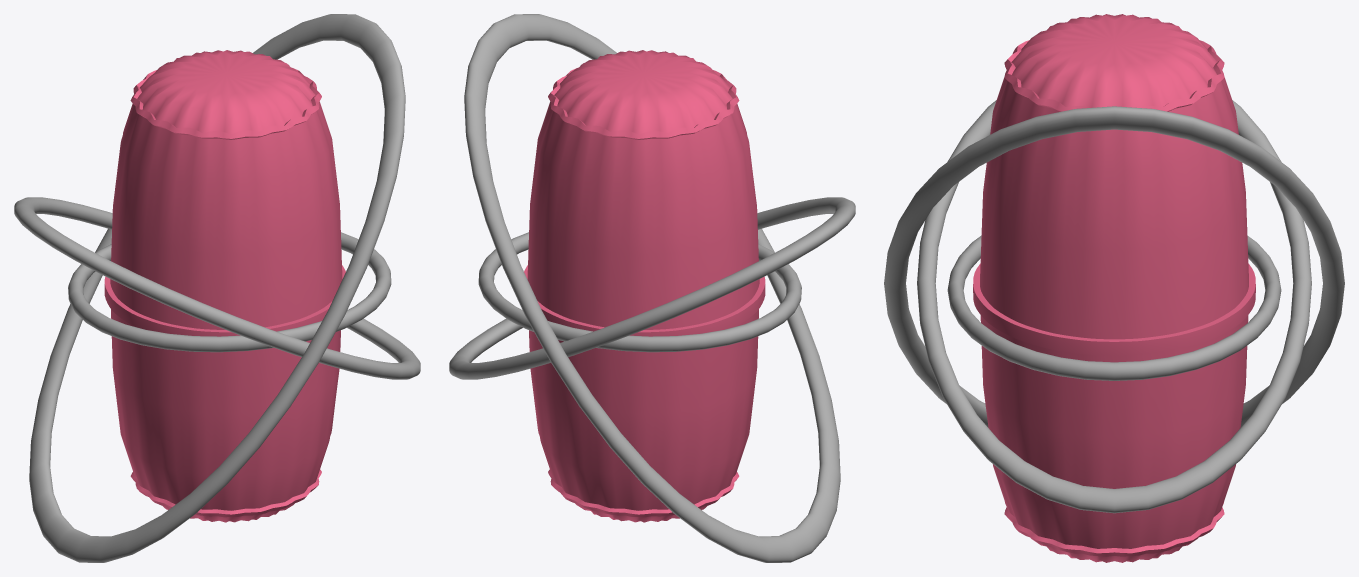
Rendered from Pill.fbx.
The picture shows the model from 3 angles, left to right: view 1: azimuth 30°, elevation 25°; view 2: azimuth 150°, elevation 25°; view 3: azimuth 270°, elevation 25°; orthographic projection. The views are drawn at different scales.
Parts seen in each view (by area): view 1: pSphere15; view 2: pSphere15; view 3: pSphere15.
Part boxes in pixels (box(x1,y1,x2,y2)): pSphere15: box(14, 14, 420, 562); pSphere15: box(449, 14, 855, 562); pSphere15: box(884, 14, 1344, 562).
Size of the model in its own units: 3.54 by 4.15 by 3.28.
